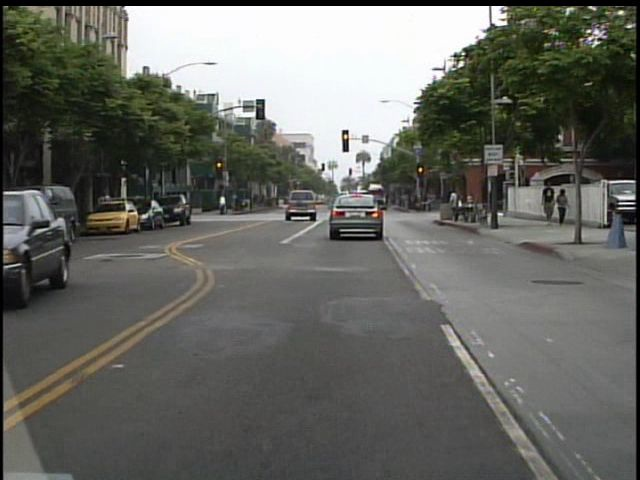person: (539, 181, 557, 226), (445, 187, 465, 225), (553, 187, 570, 227), (217, 189, 231, 217)
